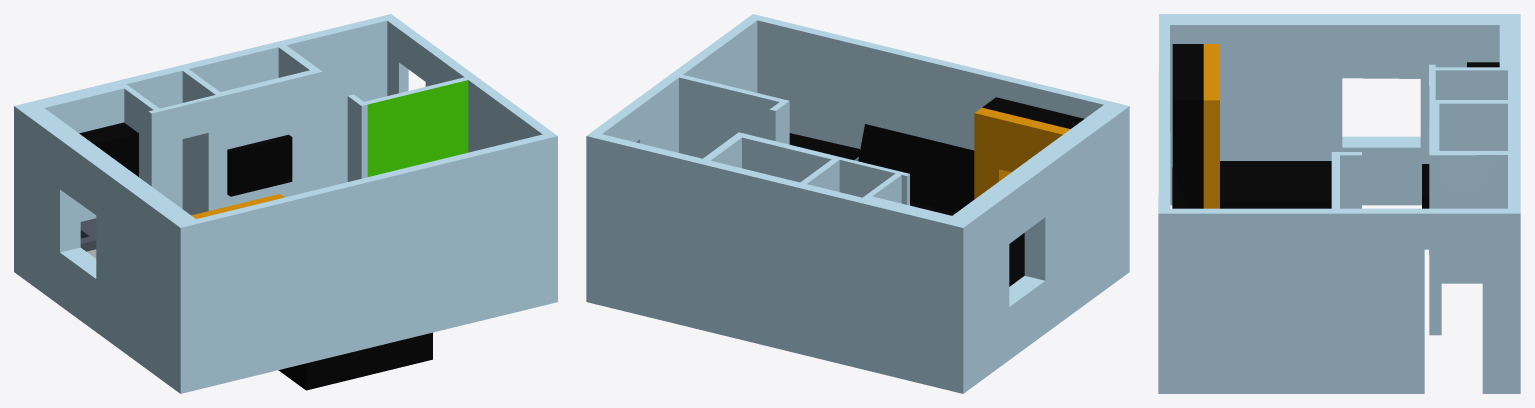
File: lägenhet.fbx
3 renders of one model, left to right at view 1: azimuth 30°, elevation 25°; view 2: azimuth 150°, elevation 25°; view 3: azimuth 270°, elevation 25°, orthographic. The views are drawn at different scales.
Parts seen in each view (by area): view 1: Plane, Cube.003, Cube.004, Cube.006, Cube.005, Cube; view 2: Plane, Cube.003, Cube, Cube.001, Cube.002; view 3: Plane, Cube, Cube.002, Cube.003, Cube.004.
Boxes of the visible parts, x1,y1,x2,y2 form: Plane: [14, 14, 557, 393]; Cube.003: [278, 332, 432, 390]; Cube.004: [227, 134, 292, 196]; Cube.006: [79, 122, 138, 176]; Cube.005: [80, 218, 96, 258]; Cube: [191, 194, 284, 218]; Plane: [586, 14, 1129, 393]; Cube.003: [858, 124, 974, 215]; Cube: [974, 97, 1084, 199]; Cube.001: [789, 133, 859, 160]; Cube.002: [1009, 233, 1024, 286]; Plane: [1158, 14, 1520, 393]; Cube: [1172, 44, 1219, 208]; Cube.002: [1220, 161, 1331, 208]; Cube.003: [1172, 167, 1189, 208]; Cube.004: [1422, 164, 1429, 208].
Size of the model in its own units: 594 by 300 by 455.
